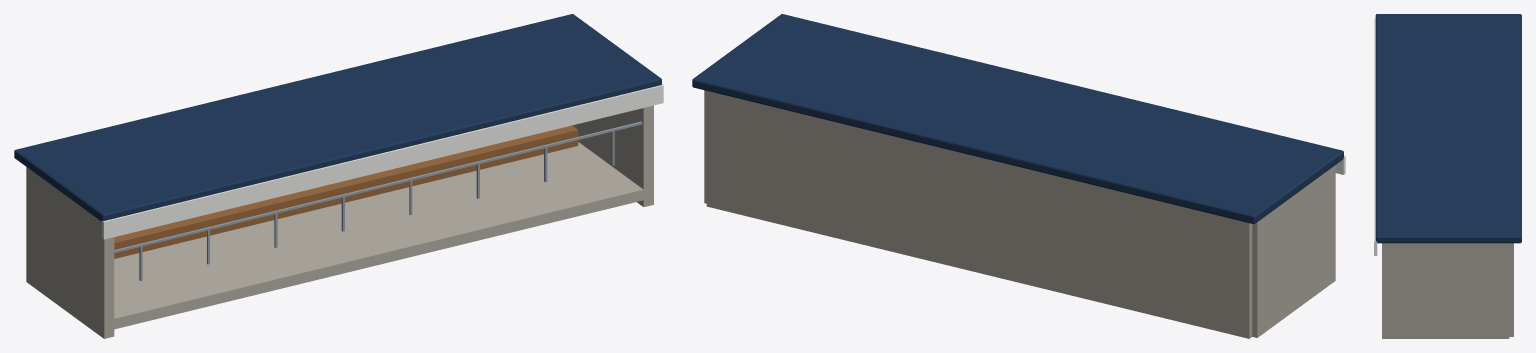
The model's file is dugout.glb.
3 renders of one model, left to right at view 1: azimuth 30°, elevation 25°; view 2: azimuth 150°, elevation 25°; view 3: azimuth 270°, elevation 25°, orthographic. The views are drawn at different scales.
Parts seen in each view (by area): view 1: bb_dugout; view 2: bb_dugout; view 3: bb_dugout.
Part boxes in pixels (x1,y1,x2,y2): bb_dugout: [14, 14, 663, 338]; bb_dugout: [692, 14, 1345, 338]; bb_dugout: [1374, 14, 1521, 338].
Bounding box in the file's own units: 16.6 × 3.62 × 4.65.
